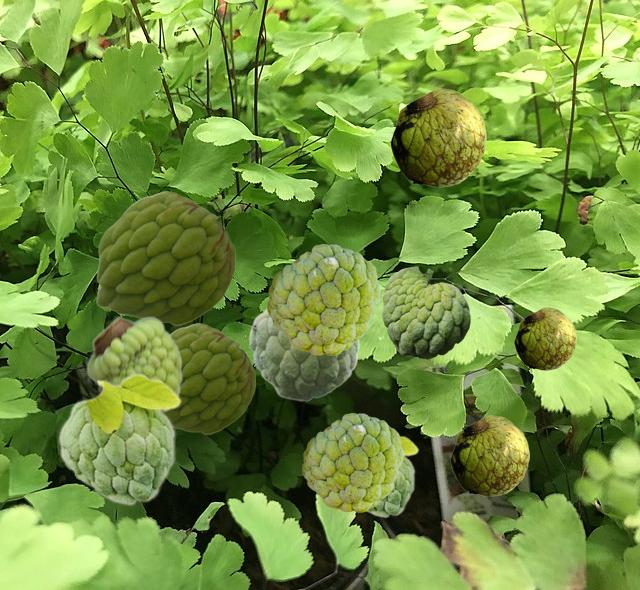atis: (96, 191, 234, 324), (57, 372, 181, 505), (267, 244, 379, 354), (248, 308, 359, 400), (302, 413, 402, 511), (166, 323, 254, 433), (390, 88, 485, 186), (382, 266, 469, 358), (86, 315, 182, 394), (450, 415, 528, 495), (366, 435, 418, 517), (514, 307, 575, 369)
